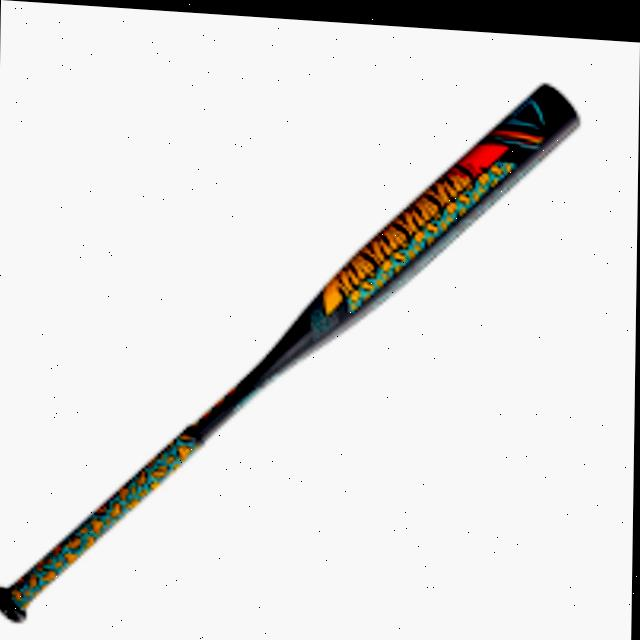baseball bat: (0, 63, 598, 623)
